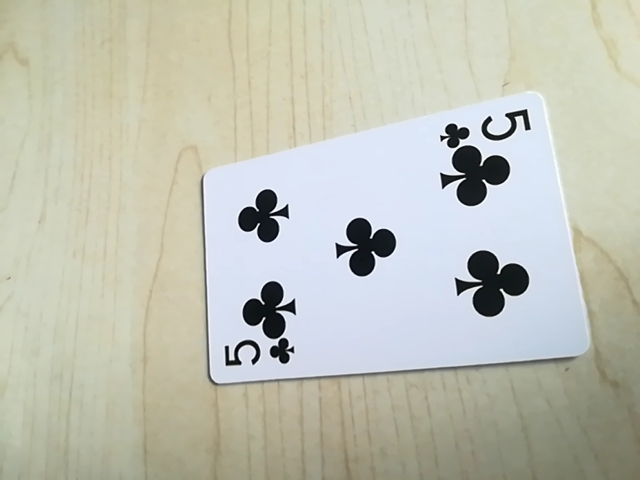mh 5: (438, 106, 536, 148), (220, 335, 299, 375)
